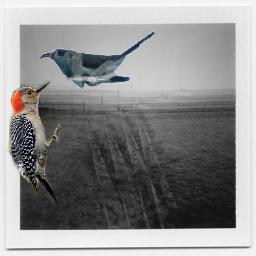Cuckoo: (40, 30, 159, 89)
Woodpecker: (5, 78, 61, 212)
